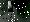person: (10, 3, 18, 17)
